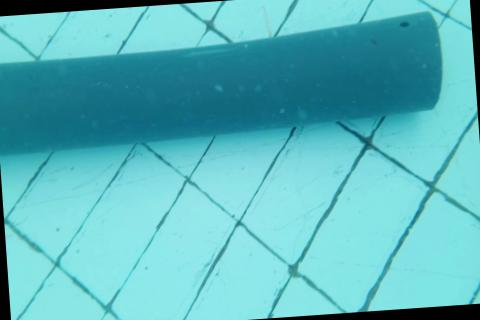kebocoran: (398, 20, 409, 28)
